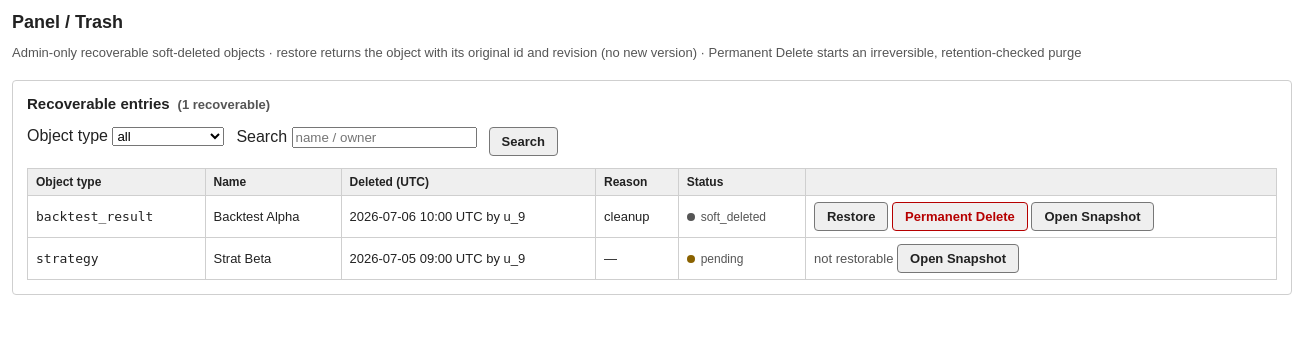
Test: Trash page › restores with the row-version OCC guard and a fresh Idempotency-Key
The width and height of the screenshot is (1292, 362).
Expected: the text "Backtest Alpha" is shown, [205,196,341,238]
Click the button "Restore" at {"x": 851, "y": 216}, box [814,202,888,231]
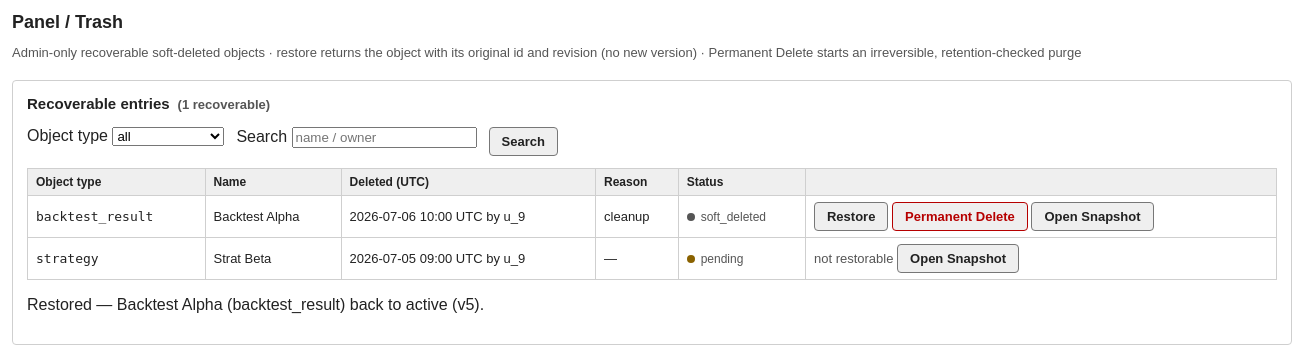
Now the text "Restored — Backtest Alpha (backtest_result) back to active (v5)." is shown, box [27,296,484,313]
